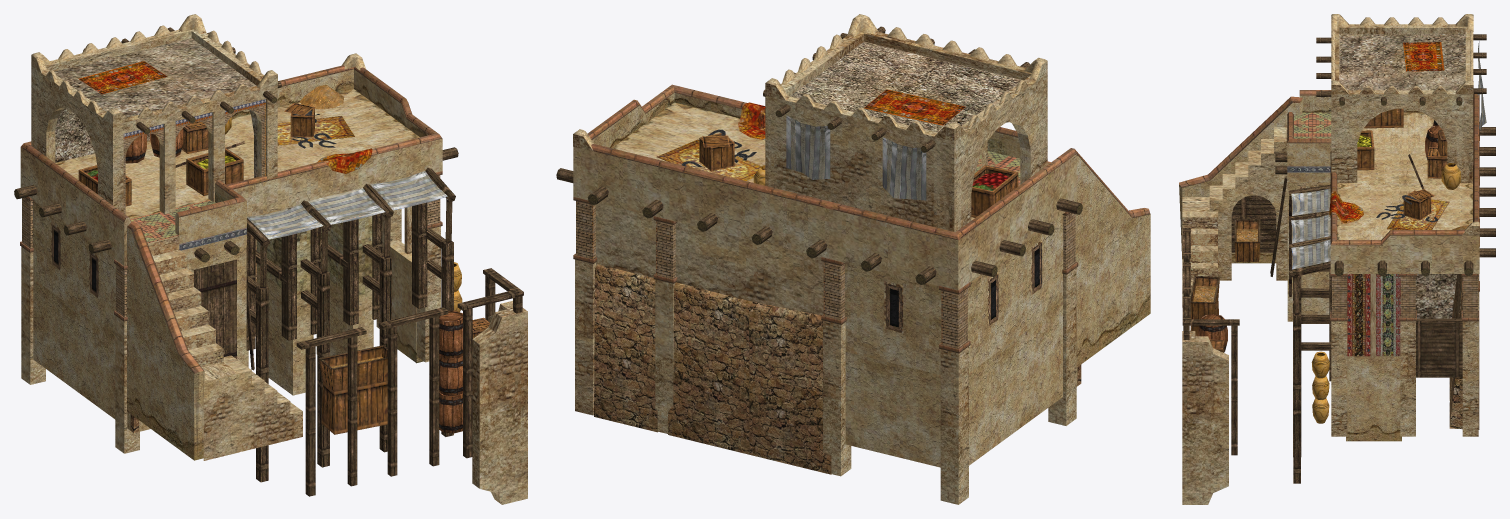
Rendered from pers_stable.glb.
3 views of the same model, side by side, from view 1: azimuth 30°, elevation 25°; view 2: azimuth 150°, elevation 25°; view 3: azimuth 270°, elevation 25° (orthographic). The views are drawn at different scales.
Bounding box in the file's own units: 19.76 × 20.47 × 16.72.
1 material, 1 textured.
